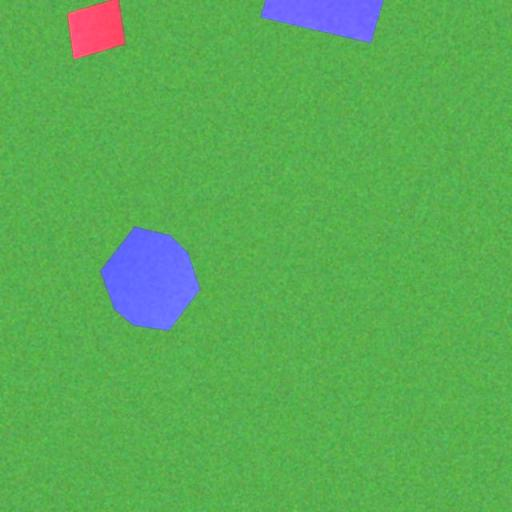BLUE_SQUARE: (260, 0, 402, 44)
RED_SQUARE: (66, 0, 126, 60)
